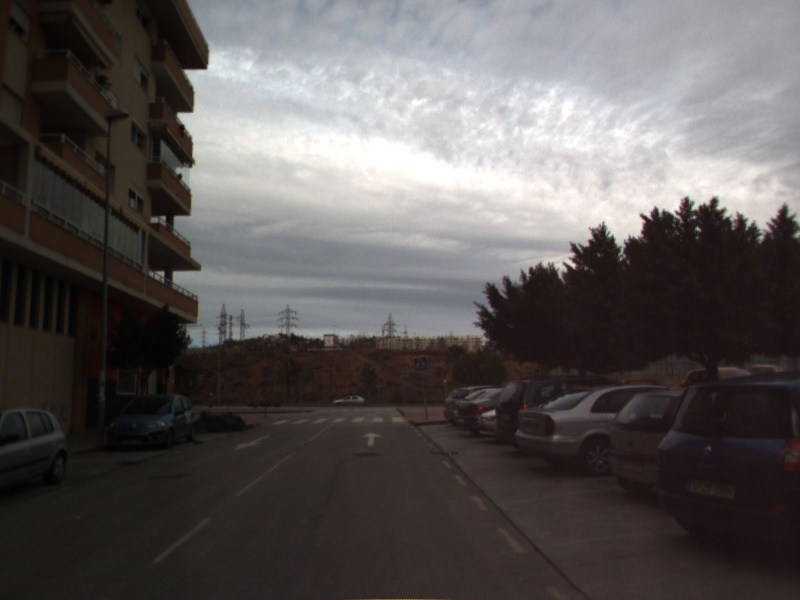STRAIGHT: (360, 430, 384, 448)
